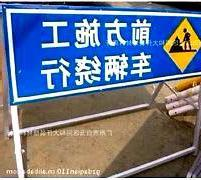sign: (2, 3, 201, 106)
